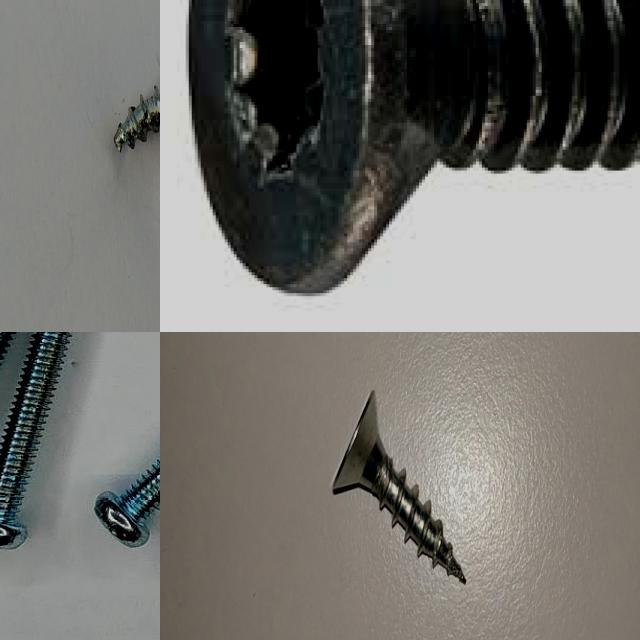Screw: (186, 0, 640, 299), (331, 389, 465, 583), (0, 332, 72, 548), (94, 460, 160, 548), (114, 86, 160, 151)
